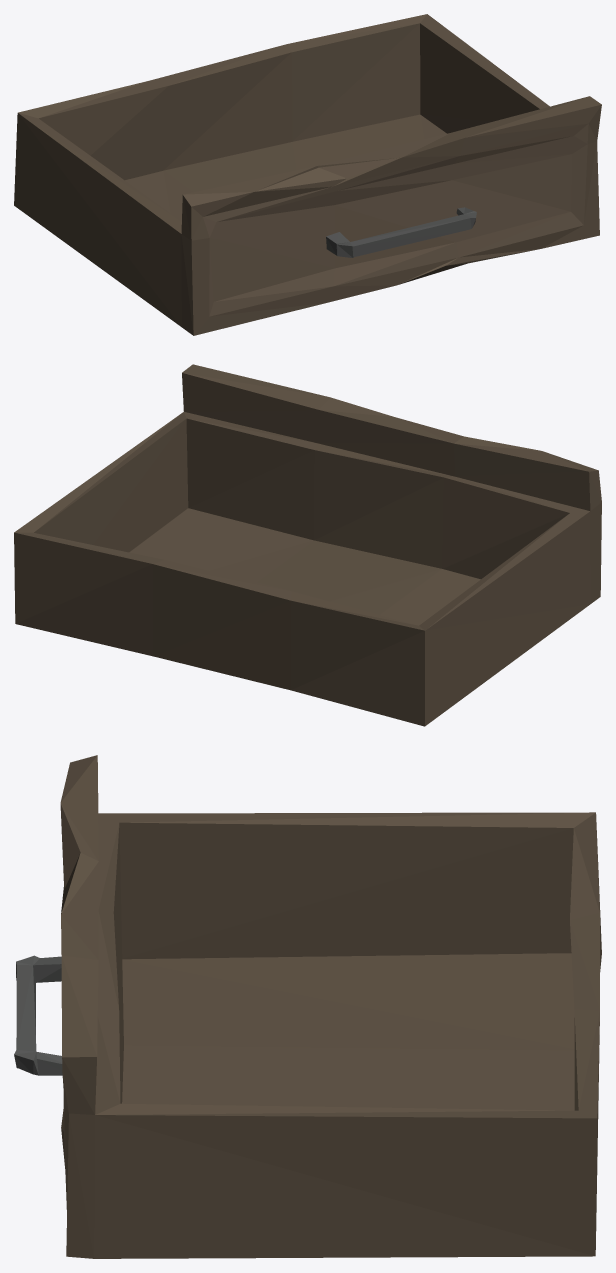
Rendered from SFHW_Shelving_010_Cabinet_001.fbx.
3 views of the same model, one above another, from view 1: azimuth 30°, elevation 25°; view 2: azimuth 150°, elevation 25°; view 3: azimuth 270°, elevation 25° (orthographic). The views are drawn at different scales.
Visible parts, largest first — view 1: SFHW_Shelving_010_Cabinet_001; view 2: SFHW_Shelving_010_Cabinet_001; view 3: SFHW_Shelving_010_Cabinet_001.
Boxes of the visible parts, x1=… form: SFHW_Shelving_010_Cabinet_001: x1=14, y1=14, x2=601, y2=335; SFHW_Shelving_010_Cabinet_001: x1=14, y1=364, x2=601, y2=726; SFHW_Shelving_010_Cabinet_001: x1=14, y1=755, x2=601, y2=1258.
Bounding box in the file's own units: 37.26 × 11.54 × 30.41.
